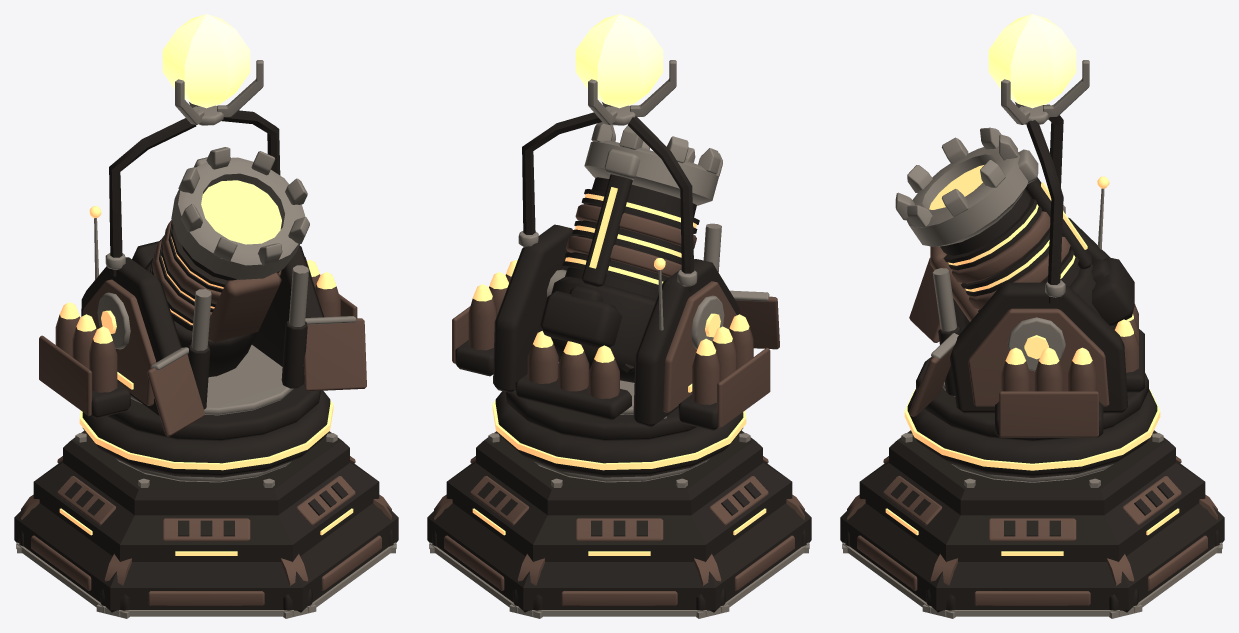
The model's file is tower_mortar.glb.
3 views of the same model, side by side, from view 1: azimuth 30°, elevation 25°; view 2: azimuth 150°, elevation 25°; view 3: azimuth 270°, elevation 25° (orthographic).
Parts seen in each view (by area): view 1: base, turret, barrel, lvl2, tower_mortar, lvl3; view 2: base, turret, barrel, lvl2, lvl3, tower_mortar; view 3: base, turret, barrel, lvl2, lvl3, tower_mortar.
Boxes of the visible parts, x1=… form: base: x1=14, y1=390, x2=398, y2=618; turret: x1=81, y1=60, x2=324, y2=441; barrel: x1=144, y1=157, x2=305, y2=376; lvl2: x1=39, y1=260, x2=366, y2=436; tower_mortar: x1=162, y1=14, x2=250, y2=108; lvl3: x1=132, y1=147, x2=309, y2=319; base: x1=427, y1=391, x2=811, y2=618; turret: x1=493, y1=60, x2=739, y2=441; barrel: x1=541, y1=140, x2=718, y2=382; lvl2: x1=452, y1=260, x2=779, y2=430; lvl3: x1=539, y1=122, x2=722, y2=348; tower_mortar: x1=575, y1=14, x2=663, y2=108; base: x1=840, y1=389, x2=1224, y2=618; turret: x1=916, y1=60, x2=1148, y2=441; barrel: x1=906, y1=146, x2=1116, y2=329; lvl2: x1=909, y1=258, x2=1103, y2=437; lvl3: x1=895, y1=127, x2=1134, y2=326; tower_mortar: x1=988, y1=14, x2=1076, y2=108.
Bounding box in the file's own units: 1.66 × 2.82 × 1.85.
